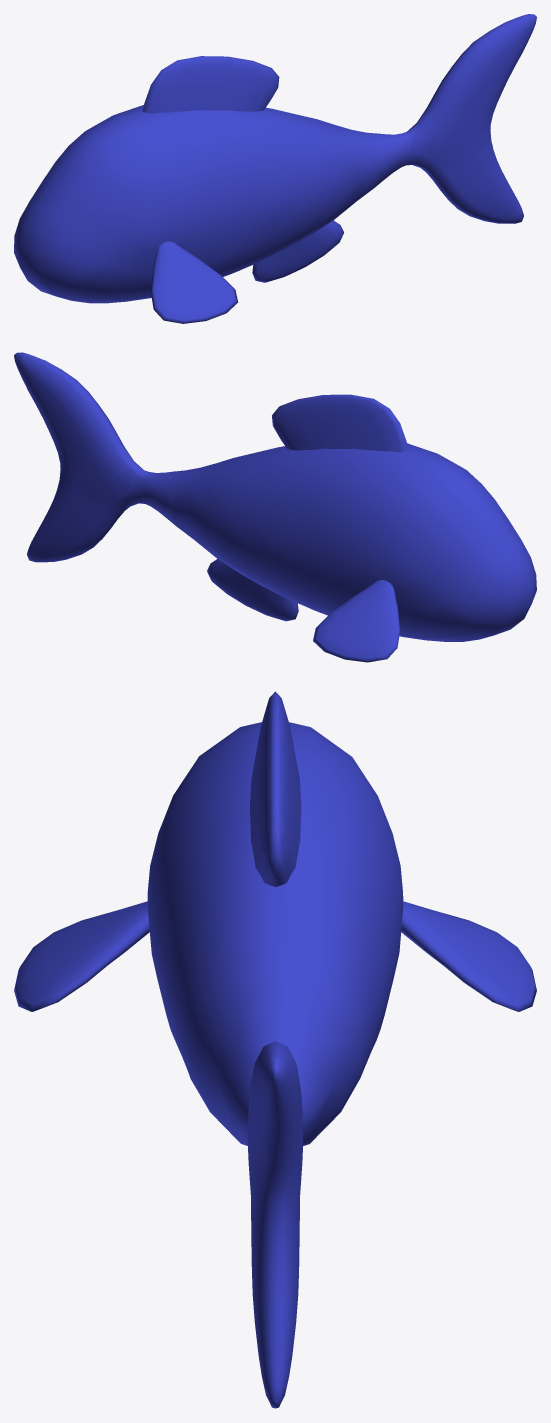
The model's file is fish.fbx.
3 renders of one model, top to bottom at view 1: azimuth 30°, elevation 25°; view 2: azimuth 150°, elevation 25°; view 3: azimuth 270°, elevation 25°, orthographic. The views are drawn at different scales.
Parts seen in each view (by area): view 1: root; view 2: root; view 3: root.
Boxes of the visible parts, x1,y1,x2,y2 form: root: (14,14,536,323); root: (14,352,536,662); root: (14,691,536,1408).
Size of the model in its own units: 0.1429 by 0.0649 by 0.0724.
